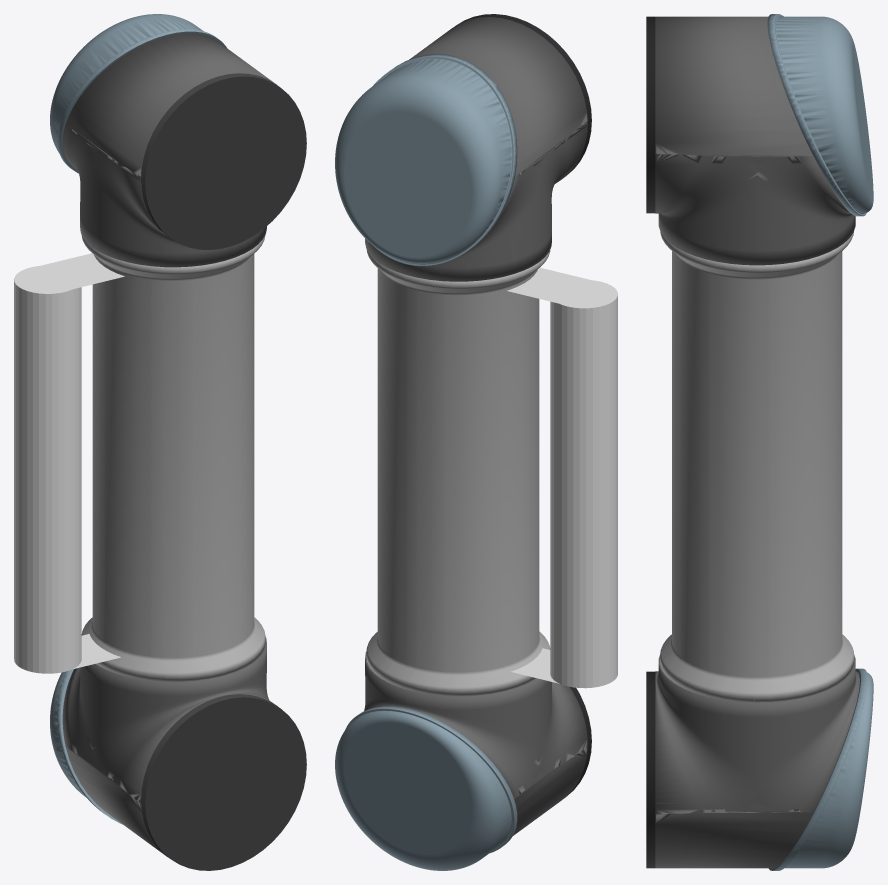
File: upperarm_snake.dae
3 views of the same model, side by side, from view 1: azimuth 30°, elevation 25°; view 2: azimuth 150°, elevation 25°; view 3: azimuth 270°, elevation 25° (orthographic). The views are drawn at different scales.
Parts seen in each view (by area): view 1: Actor3, Actor2, Actor0, Cylinder, Actor1, Plane, Actor4, Plane_001; view 2: Actor3, Actor1, Cylinder, Actor4, Actor2, Actor0, Plane, Plane_001; view 3: Actor3, Actor2, Actor0, Actor1, Actor4.
Boxes of the visible parts, x1=… form: Actor3: x1=81, y1=235, x2=265, y2=681; Actor2: x1=62, y1=33, x2=306, y2=267; Actor0: x1=62, y1=637, x2=306, y2=870; Cylinder: x1=14, y1=266, x2=81, y2=673; Actor1: x1=50, y1=14, x2=226, y2=173; Plane: x1=24, y1=253, x2=124, y2=293; Actor4: x1=50, y1=669, x2=122, y2=824; Plane_001: x1=73, y1=634, x2=120, y2=669; Actor3: x1=366, y1=250, x2=550, y2=695; Actor1: x1=335, y1=54, x2=517, y2=266; Cylinder: x1=550, y1=280, x2=617, y2=688; Actor4: x1=335, y1=706, x2=517, y2=870; Actor2: x1=365, y1=14, x2=591, y2=281; Actor0: x1=364, y1=651, x2=591, y2=836; Plane: x1=507, y1=267, x2=607, y2=307; Plane_001: x1=510, y1=648, x2=576, y2=687; Actor3: x1=660, y1=232, x2=854, y2=702; Actor2: x1=646, y1=16, x2=855, y2=265; Actor0: x1=646, y1=654, x2=859, y2=868; Actor1: x1=767, y1=14, x2=873, y2=216; Actor4: x1=768, y1=668, x2=873, y2=870.
Bounding box in the file's own units: 0.1705 × 0.1337 × 0.544.
